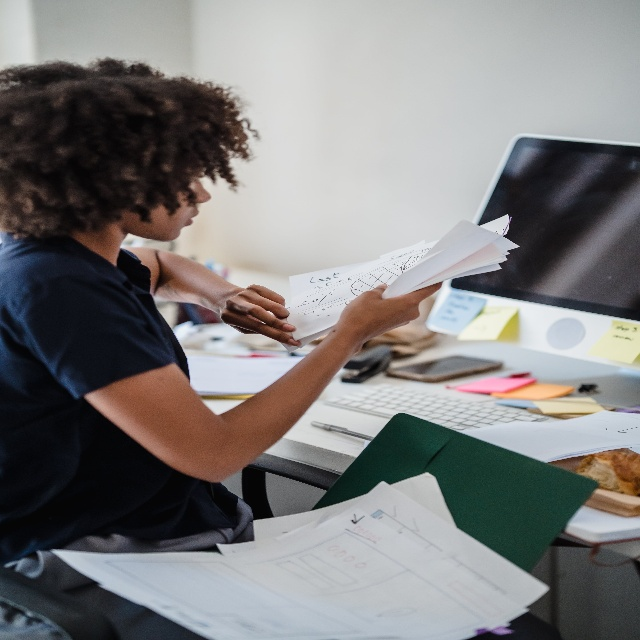Sin_guantes: (340, 277, 445, 343), (220, 283, 301, 348)
